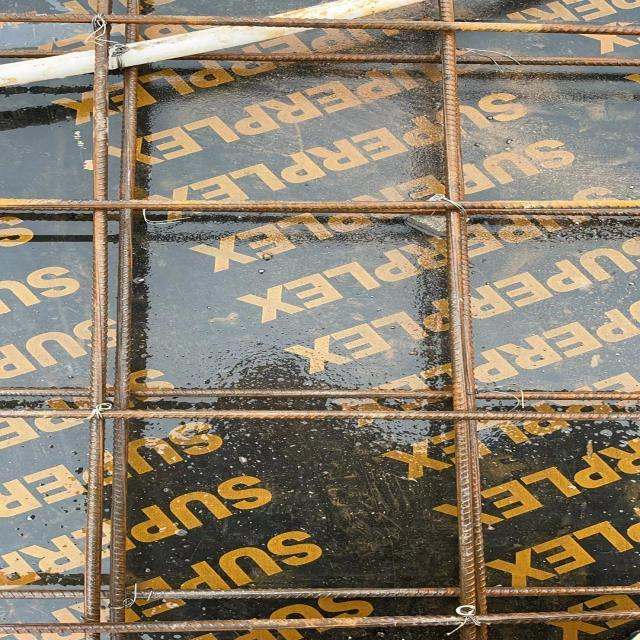ribbed bar: (436, 0, 488, 639), (81, 0, 112, 639), (109, 0, 140, 639), (0, 607, 639, 634), (0, 12, 639, 36), (0, 49, 639, 67), (0, 199, 639, 216), (0, 584, 639, 600), (0, 387, 639, 400), (0, 410, 639, 420)
